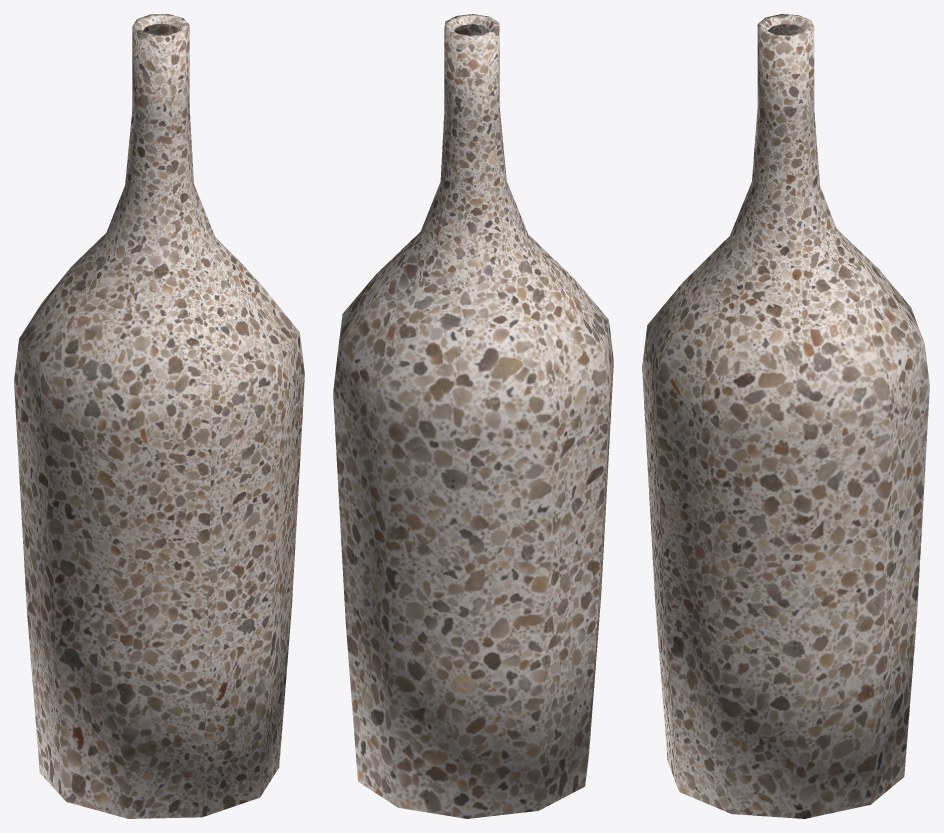
The model's file is Jar1.glb.
3 views of the same model, side by side, from view 1: azimuth 30°, elevation 25°; view 2: azimuth 150°, elevation 25°; view 3: azimuth 270°, elevation 25° (orthographic).
Parts seen in each view (by area): view 1: JarroMenos.001; view 2: JarroMenos.001; view 3: JarroMenos.001.
Boxes of the visible parts, x1,y1,x2,y2 form: JarroMenos.001: [14, 14, 304, 818]; JarroMenos.001: [333, 14, 613, 818]; JarroMenos.001: [642, 14, 929, 818].
Size of the model in its own units: 0.2044 by 0.5829 by 0.2044.
Materials: 1 (1 with a texture image).
